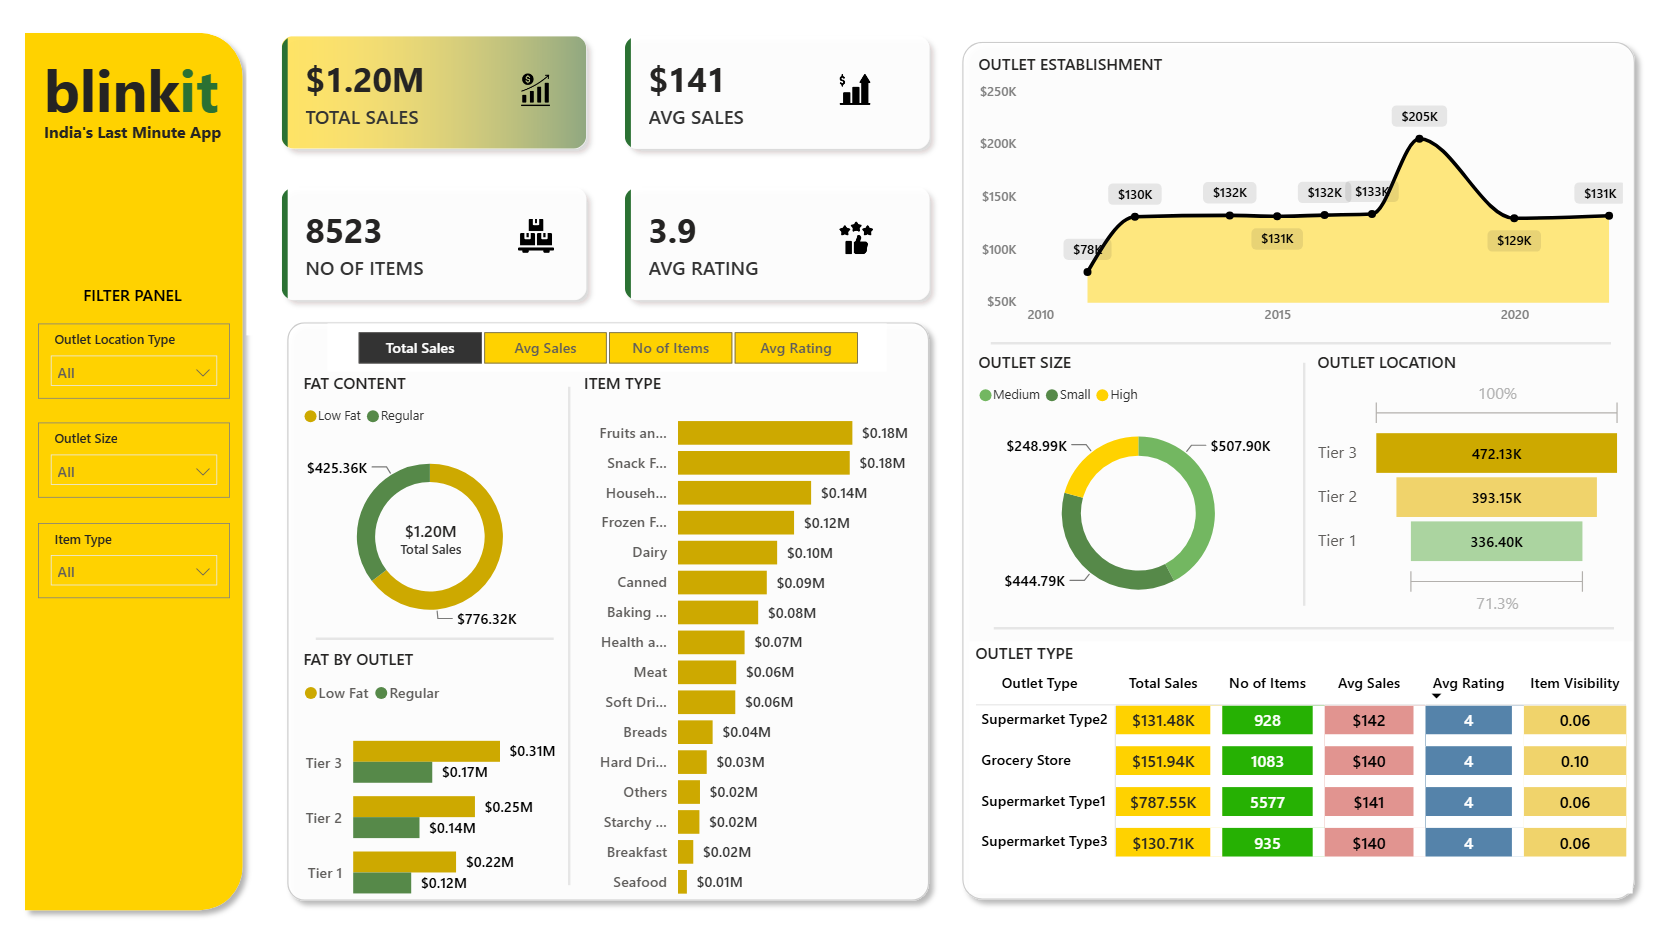

The page's visual inventory and layout, read from the dashboard file:
{"tool":"powerbi","page":{"name":"Page 1","canvas":[1400,800],"ordinal":0},"visuals":[{"type":"shape","box":[17.2,25.1,199.6,749.3],"z":0},{"type":"textbox","box":[37,42.3,159.9,76.7],"z":1000},{"type":"textbox","box":[37,101.8,166.5,33],"z":2000},{"type":"cardVisual","fields":{"Data":["BlinkIT Grocery Data.Total Sales","BlinkIT Grocery Data.Avg Sales","BlinkIT Grocery Data.No of Items","BlinkIT Grocery Data.Avg Rating"]},"box":[211.4,7.1,598.6,278.6],"z":3000},{"type":"image","box":[429,67,46,28],"z":4000},{"type":"image","box":[700,67.5,36.2,27.5],"z":5000},{"type":"image","box":[437.5,187.5,30,31.2],"z":6000},{"type":"image","box":[700,191.2,38.8,27.5],"z":7000},{"type":"shape","box":[235.7,265.7,552.9,500],"z":8000},{"type":"donutChart","title":"FAT CONTENT","fields":{"Y":["BlinkIT Grocery Data.Total Sales"],"Category":["BlinkIT Grocery Data.Item Fat Content"]},"box":[254.3,315.7,220,230],"z":9000},{"type":"slicer","fields":{"Values":["Metrics.Metrics"]},"box":[278.6,275.7,465.7,40],"z":10000},{"type":"cardVisual","fields":{"Data":["BlinkIT Grocery Data.Total Sales"]},"box":[308.6,410,112.9,90],"z":11000},{"type":"clusteredBarChart","title":"FAT BY OUTLET","fields":{"Y":["BlinkIT Grocery Data.Total Sales"],"Category":["BlinkIT Grocery Data.Outlet Location Type"],"Series":["BlinkIT Grocery Data.Item Fat Content"]},"box":[254.3,545.7,220,230],"z":12000},{"type":"shape","box":[268.6,532.9,198.6,12.9],"z":13000},{"type":"shape","box":[474.3,328.6,12.9,415.7],"z":14000},{"type":"barChart","title":"ITEM TYPE","fields":{"Y":["BlinkIT Grocery Data.Total Sales"],"Category":["BlinkIT Grocery Data.Item Type"]},"box":[487.1,315.7,280,450],"z":15000},{"type":"shape","box":[798.6,32.9,578.6,732.9],"z":16000},{"type":"lineChart","title":"OUTLET ESTABLISHMENT","fields":{"Y":["BlinkIT Grocery Data.Total Sales"],"Category":["BlinkIT Grocery Data.Outlet Establishment Year"]},"box":[815.7,50,547.1,235.7],"z":17000},{"type":"shape","box":[831.4,285.7,517.1,12.9],"z":18000},{"type":"donutChart","title":"OUTLET SIZE","fields":{"Category":["BlinkIT Grocery Data.Outlet Size"],"Y":["BlinkIT Grocery Data.Total Sales"]},"box":[815.7,299.2,275.7,225.7],"z":19000},{"type":"shape","box":[1085.7,308.6,12.9,202.9],"z":20000},{"type":"funnel","title":"OUTLET LOCATION","fields":{"Y":["Sum(BlinkIT Grocery Data.Sales)"],"Category":["BlinkIT Grocery Data.Outlet Location Type"]},"box":[1098.6,299.2,264.3,225.7],"z":21000},{"type":"shape","box":[834.3,524.3,517.1,12.9],"z":22000},{"type":"pivotTable","title":"OUTLET TYPE","fields":{"Rows":["BlinkIT Grocery Data.Outlet Type"],"Values":["BlinkIT Grocery Data.Total Sales","BlinkIT Grocery Data.No of Items","BlinkIT Grocery Data.Avg Sales","BlinkIT Grocery Data.Avg Rating","Avg(BlinkIT Grocery Data.Item Visibility)"]},"box":[814.3,541.4,552.9,210],"z":23000},{"type":"slicer","fields":{"Values":["BlinkIT Grocery Data.Outlet Location Type"]},"box":[37.1,275.7,160,62.9],"z":24000},{"type":"slicer","fields":{"Values":["BlinkIT Grocery Data.Item Type"]},"box":[37.1,442.9,160,62.9],"z":25000},{"type":"slicer","fields":{"Values":["BlinkIT Grocery Data.Outlet Size"]},"box":[37.1,358.6,160,62.9],"z":26000},{"type":"textbox","box":[66.7,237.8,100,30],"z":27000}]}

Visuals, with their boxes in screenshot pixels (x1, y1, x2, y2), scaled from the page's 1400x800 canvas onto the 1666x942 screenshot:
shape: bbox(20, 30, 258, 912)
textbox: bbox(44, 50, 234, 140)
textbox: bbox(44, 120, 242, 159)
cardVisual - BlinkIT Grocery Data.Total Sales x BlinkIT Grocery Data.Avg Sales: bbox(252, 8, 964, 336)
image: bbox(511, 79, 565, 112)
image: bbox(833, 79, 876, 112)
image: bbox(521, 221, 556, 258)
image: bbox(833, 225, 879, 258)
shape: bbox(280, 313, 938, 902)
"FAT CONTENT" donutChart: bbox(303, 372, 564, 643)
slicer - Metrics.Metrics: bbox(332, 325, 886, 372)
cardVisual - BlinkIT Grocery Data.Total Sales: bbox(367, 483, 502, 589)
"FAT BY OUTLET" clusteredBarChart: bbox(303, 643, 564, 913)
shape: bbox(320, 627, 556, 643)
shape: bbox(564, 387, 580, 876)
"ITEM TYPE" barChart: bbox(580, 372, 913, 902)
shape: bbox(950, 39, 1639, 902)
"OUTLET ESTABLISHMENT" lineChart: bbox(971, 59, 1622, 336)
shape: bbox(989, 336, 1605, 352)
"OUTLET SIZE" donutChart: bbox(971, 352, 1299, 618)
shape: bbox(1292, 363, 1307, 602)
"OUTLET LOCATION" funnel: bbox(1307, 352, 1622, 618)
shape: bbox(993, 617, 1608, 633)
"OUTLET TYPE" pivotTable: bbox(969, 637, 1627, 885)
slicer - BlinkIT Grocery Data.Outlet Location Type: bbox(44, 325, 235, 399)
slicer - BlinkIT Grocery Data.Item Type: bbox(44, 522, 235, 596)
slicer - BlinkIT Grocery Data.Outlet Size: bbox(44, 422, 235, 496)
textbox: bbox(79, 280, 198, 315)
